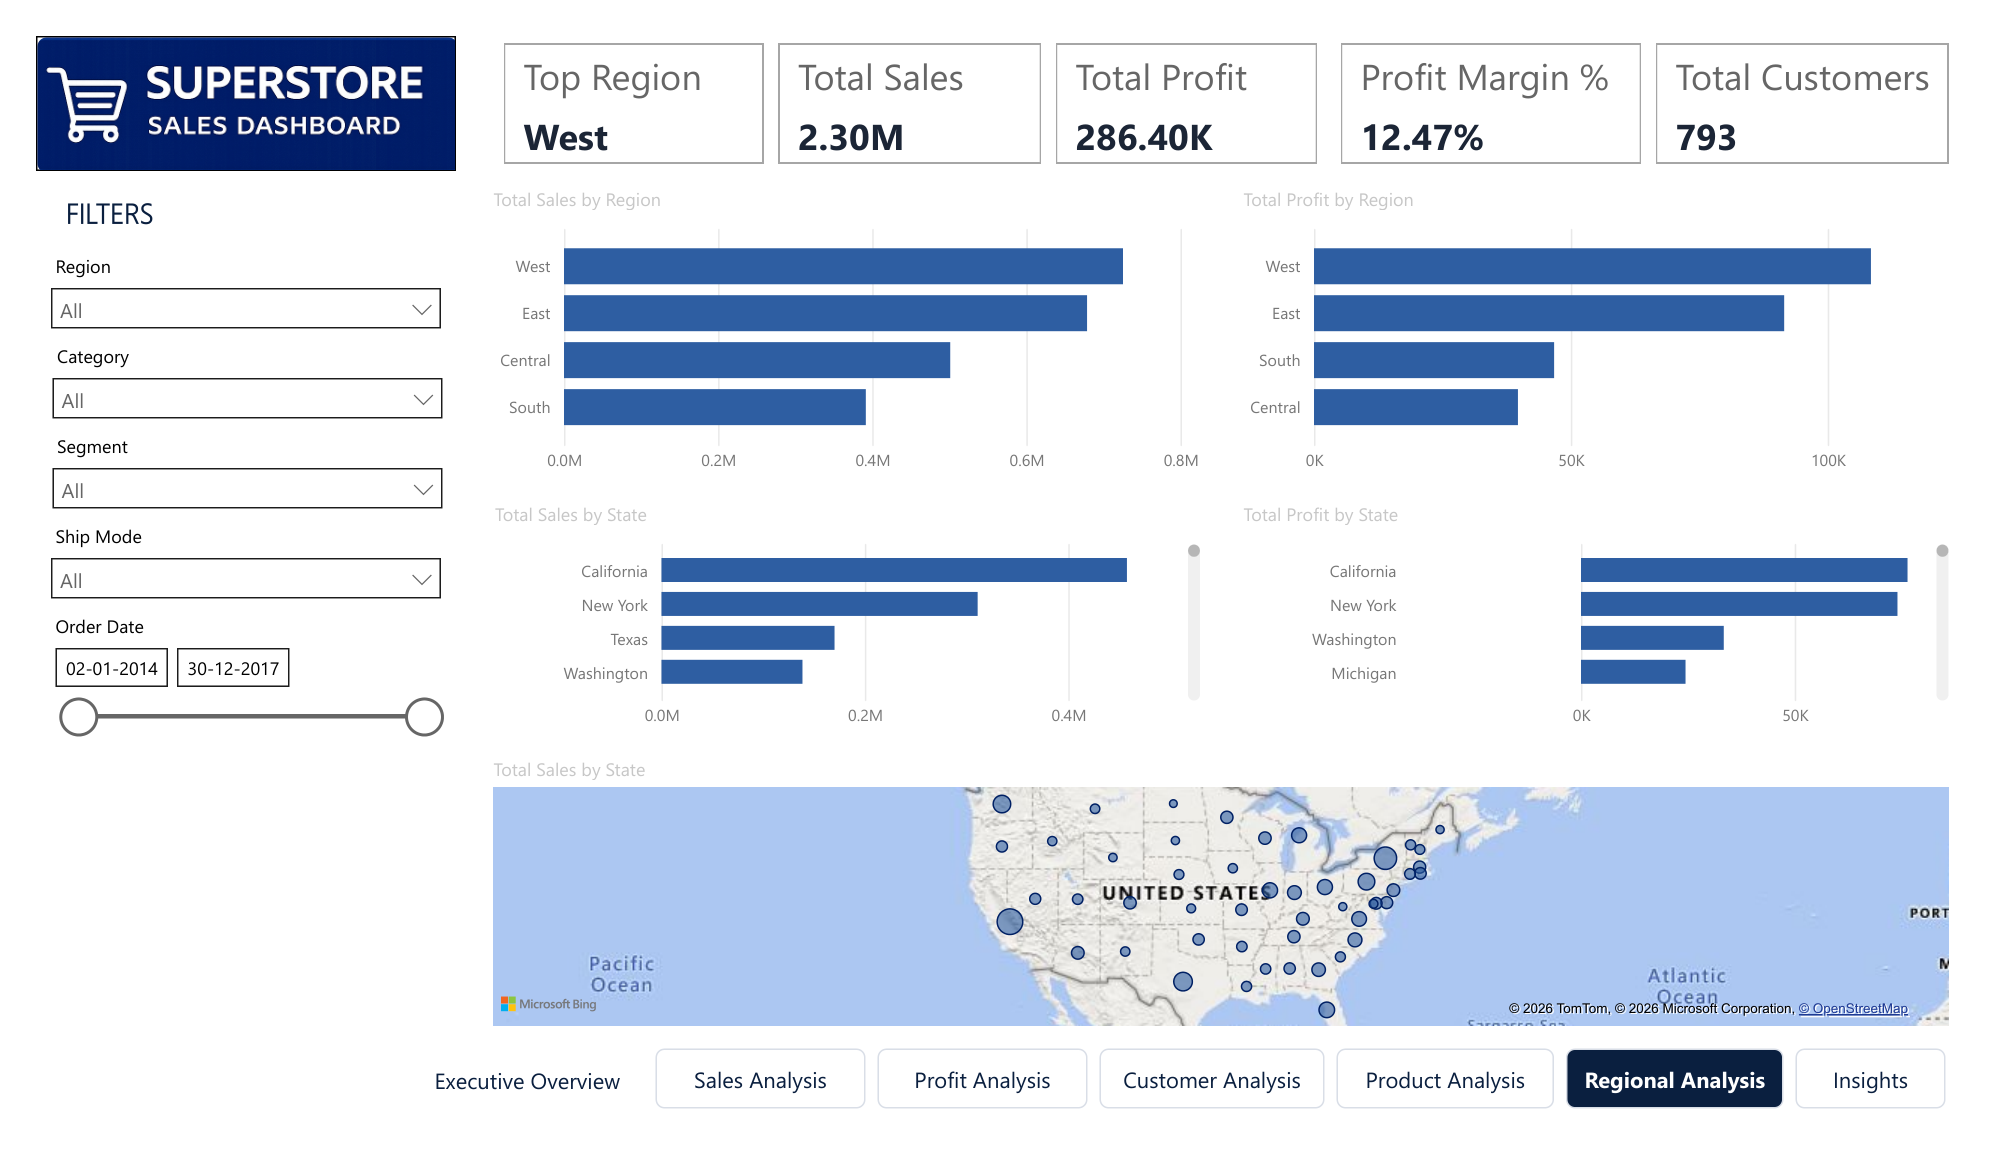

What the dashboard file says about the page in this screenshot:
{"tool":"powerbi","page":{"name":"Regional Analysis","canvas":[1280,720],"ordinal":5},"visuals":[{"type":"map","fields":{"Category":["Sample - Superstore 2.State"],"Size":["Sample - Superstore 2.Total Sales"]},"box":[300,480,980,185],"z":0},{"type":"cardVisual","fields":{"Data":["Sample - Superstore 2.Total Sales"]},"box":[490.5,0,184.9,89.6],"z":1000},{"type":"cardVisual","fields":{"Data":["Sample - Superstore 2.Total Customers"]},"box":[1075.2,0,204.5,89.6],"z":2000},{"type":"cardVisual","fields":{"Data":["Sample - Superstore 2.Total Profit"]},"box":[675.4,0,183.8,89.6],"z":3000},{"type":"cardVisual","fields":{"Data":["Sample - Superstore 2.Profit Margin %"]},"box":[865,0,210.2,89.6],"z":4000},{"type":"cardVisual","fields":{"Data":["Sample - Superstore 2.Top Region"]},"box":[306.7,0,183.8,89.6],"z":5000},{"type":"clusteredBarChart","fields":{"Category":["Sample - Superstore 2.Region"],"Y":["Sample - Superstore 2.Total Sales"]},"box":[300,100,480,200],"z":6000},{"type":"clusteredBarChart","fields":{"Category":["Sample - Superstore 2.Region"],"Y":["Sample - Superstore 2.Total Profit"]},"box":[800,100,480,200],"z":7000},{"type":"clusteredBarChart","fields":{"Y":["Sample - Superstore 2.Total Sales"],"Category":["Sample - Superstore 2.State"]},"box":[301,310,480,160],"z":8000},{"type":"clusteredBarChart","fields":{"Y":["Sample - Superstore 2.Total Profit"],"Category":["Sample - Superstore 2.State"]},"box":[800,310,480,160],"z":9000},{"type":"actionButton","title":"sdgtsdgte","box":[250,675,155,40.7],"z":10000},{"type":"actionButton","box":[413,675,140,40],"z":11000},{"type":"actionButton","box":[867,675,145,40],"z":12000},{"type":"actionButton","box":[709,675,150,40],"z":13000},{"type":"actionButton","box":[561,675,140,40],"z":14000},{"type":"actionButton","box":[1020,675,145,40],"z":15000},{"type":"actionButton","box":[1173,675,100,40],"z":16000},{"type":"slicer","fields":{"Values":["Sample - Superstore 2.Region"]},"box":[0,140,280,55],"z":17000},{"type":"slicer","fields":{"Values":["Sample - Superstore 2.Category"]},"box":[1.1,200,280,55],"z":18000},{"type":"slicer","fields":{"Values":["Sample - Superstore 2.Order Date"]},"box":[0,380,280.3,130],"z":19000},{"type":"slicer","fields":{"Values":["Sample - Superstore 2.Segment"]},"box":[1.1,260,280,55],"z":20000},{"type":"slicer","fields":{"Values":["Sample - Superstore 2.Ship Mode"]},"box":[0,320,280,54.6],"z":21000},{"type":"image","box":[0,0,280.3,89.6],"z":22000},{"type":"textbox","box":[15,100,200,35],"z":23000}]}

Visuals, with their boxes in screenshot pixels (x1, y1, x2, y2), scaled from the page's 1280x720 canvas onto the 1992x1152 screenshot:
map - Sample - Superstore 2.State x Sample - Superstore 2.Total Sales: left=467, top=768, right=1991, bottom=1064
cardVisual - Sample - Superstore 2.Total Sales: left=763, top=0, right=1051, bottom=143
cardVisual - Sample - Superstore 2.Total Customers: left=1673, top=0, right=1991, bottom=143
cardVisual - Sample - Superstore 2.Total Profit: left=1051, top=0, right=1337, bottom=143
cardVisual - Sample - Superstore 2.Profit Margin %: left=1346, top=0, right=1673, bottom=143
cardVisual - Sample - Superstore 2.Top Region: left=477, top=0, right=763, bottom=143
clusteredBarChart - Sample - Superstore 2.Region x Sample - Superstore 2.Total Sales: left=467, top=160, right=1214, bottom=480
clusteredBarChart - Sample - Superstore 2.Region x Sample - Superstore 2.Total Profit: left=1245, top=160, right=1991, bottom=480
clusteredBarChart - Sample - Superstore 2.Total Sales x Sample - Superstore 2.State: left=468, top=496, right=1215, bottom=752
clusteredBarChart - Sample - Superstore 2.Total Profit x Sample - Superstore 2.State: left=1245, top=496, right=1991, bottom=752
"sdgtsdgte" actionButton: left=389, top=1080, right=630, bottom=1145
actionButton: left=643, top=1080, right=861, bottom=1144
actionButton: left=1349, top=1080, right=1575, bottom=1144
actionButton: left=1103, top=1080, right=1337, bottom=1144
actionButton: left=873, top=1080, right=1091, bottom=1144
actionButton: left=1587, top=1080, right=1813, bottom=1144
actionButton: left=1825, top=1080, right=1981, bottom=1144
slicer - Sample - Superstore 2.Region: left=0, top=224, right=436, bottom=312
slicer - Sample - Superstore 2.Category: left=2, top=320, right=437, bottom=408
slicer - Sample - Superstore 2.Order Date: left=0, top=608, right=436, bottom=816
slicer - Sample - Superstore 2.Segment: left=2, top=416, right=437, bottom=504
slicer - Sample - Superstore 2.Ship Mode: left=0, top=512, right=436, bottom=599
image: left=0, top=0, right=436, bottom=143
textbox: left=23, top=160, right=335, bottom=216
